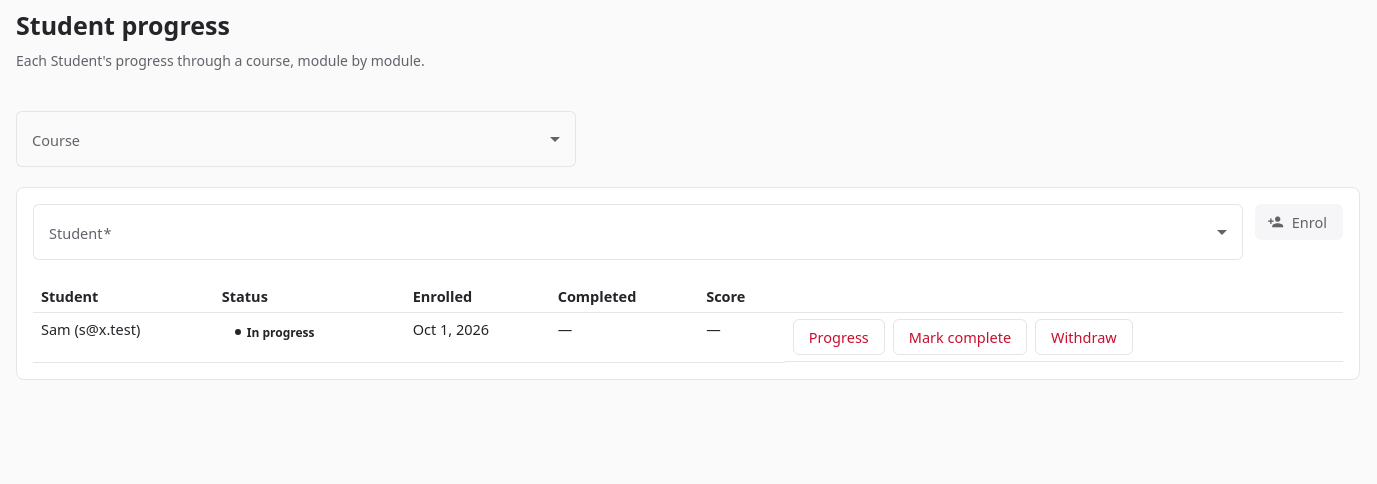
Scenario: LearnerProgressComponent › opens one Student's module progress with module titles
The image size is (1377, 484).
Step 1. Click the button "Progress" → [839, 337], box x1=793 y1=319 x2=885 y2=355
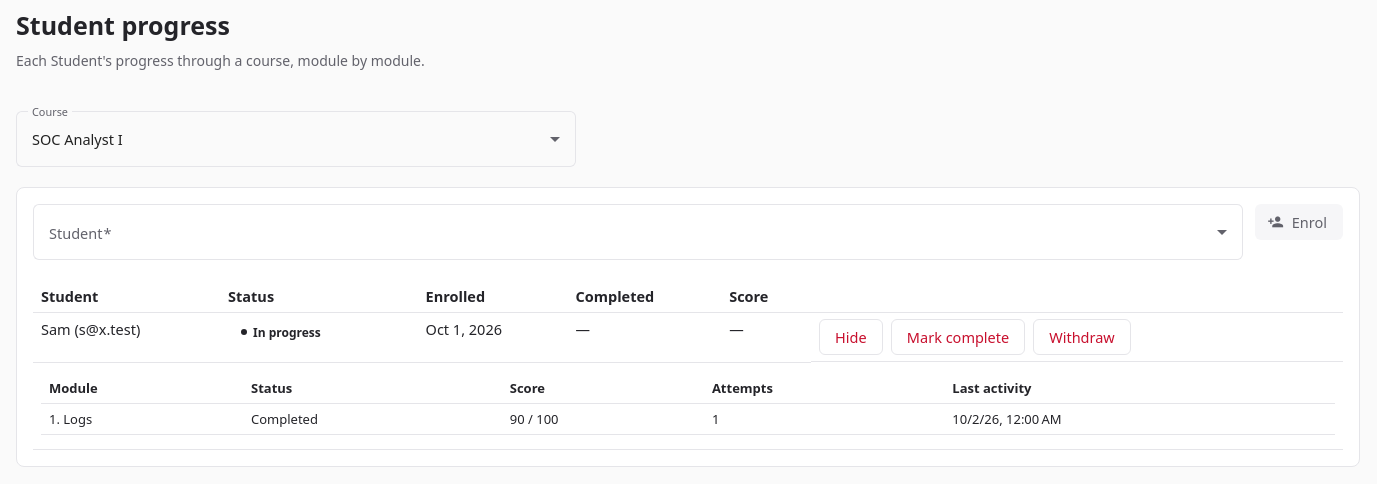
Expected: the text "1. Logs" is shown, x1=41 y1=404 x2=243 y2=434
Expected: the text "90 / 100" is shown, x1=502 y1=404 x2=704 y2=434
Expected: the button "Hide" is expanded, x1=819 y1=319 x2=883 y2=355
